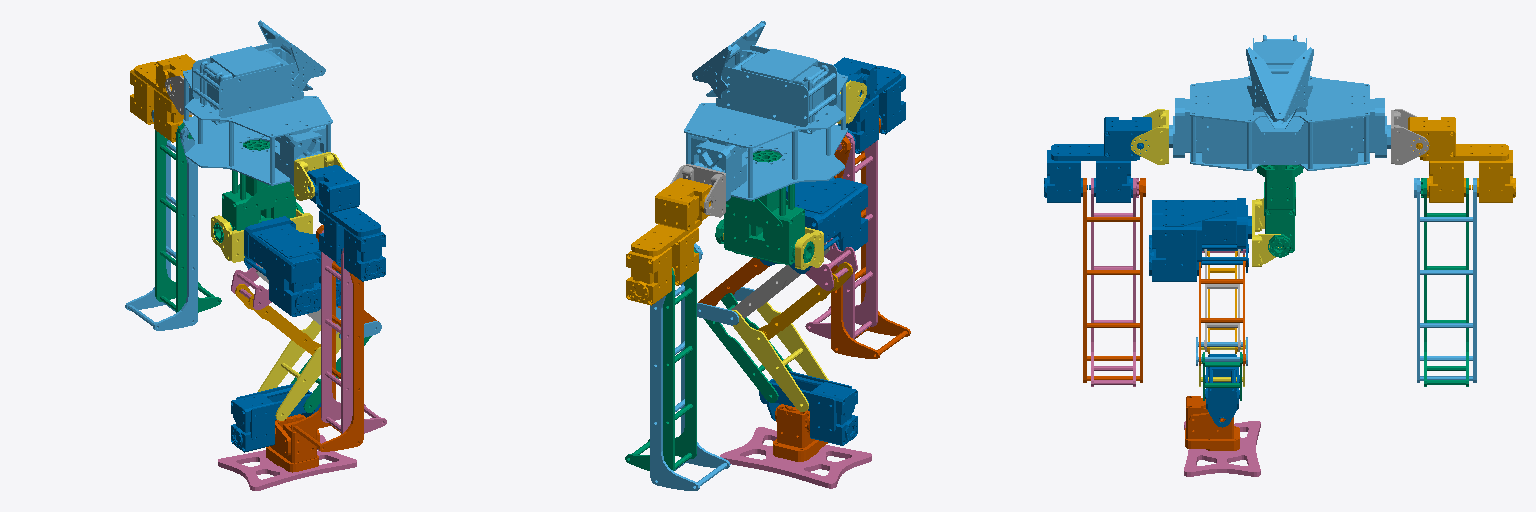
--- Render facts (derived) ---
The picture shows the robot from 3 angles, left to right: view 1: azimuth 30°, elevation 25°; view 2: azimuth 150°, elevation 25°; view 3: azimuth 270°, elevation 25°; orthographic projection.
Robot: kuroko — 23 links, 22 joints (21 revolute, 1 fixed); root link root_link; default pose: every joint at zero.
Visible links, largest first — view 1: chest, thigh_r_01, arm_r, scissor_lr, scissor_rr, scissor_lf, scissor_rf, waist, arm_l, ankle_r_01, toe_r_02, leg_r_02 (+5 smaller); view 2: chest, arm_l, waist, scissor_lr, scissor_lf, thigh_r_01, scissor_rr, arm_r, ankle_r_01, toe_r_02, leg_r_02, scissor_rf (+10 smaller); view 3: chest, thigh_r_01, arm_r, arm_l, waist, scissor_lf, scissor_rf, toe_r_02, scissor_rr, scissor_lr, toe_r_01, ankle_r_01 (+6 smaller).
Link boxes in pixels (bbox=[...]): chest: bbox=[183, 20, 332, 186]; thigh_r_01: bbox=[244, 216, 340, 316]; arm_r: bbox=[307, 165, 385, 281]; scissor_lr: bbox=[155, 123, 221, 312]; scissor_rr: bbox=[320, 230, 386, 433]; scissor_lf: bbox=[125, 110, 197, 330]; scissor_rf: bbox=[290, 225, 363, 451]; waist: bbox=[213, 139, 303, 242]; arm_l: bbox=[130, 54, 195, 142]; ankle_r_01: bbox=[231, 383, 320, 452]; toe_r_02: bbox=[218, 435, 356, 490]; leg_r_02: bbox=[258, 320, 340, 420]; chest: bbox=[684, 21, 847, 201]; arm_l: bbox=[626, 178, 712, 305]; waist: bbox=[715, 150, 814, 265]; scissor_lr: bbox=[625, 249, 697, 470]; scissor_lf: bbox=[650, 243, 730, 490]; thigh_r_01: bbox=[760, 177, 867, 273]; scissor_rr: bbox=[805, 132, 877, 339]; arm_r: bbox=[834, 57, 905, 153]; ankle_r_01: bbox=[759, 371, 857, 445]; toe_r_02: bbox=[720, 427, 871, 488]; leg_r_02: bbox=[732, 302, 828, 411]; scissor_rf: bbox=[831, 118, 910, 358]; chest: bbox=[1169, 35, 1390, 170]; thigh_r_01: bbox=[1149, 198, 1251, 281]; arm_r: bbox=[1044, 117, 1151, 202]; arm_l: bbox=[1408, 117, 1515, 202]; waist: bbox=[1256, 165, 1303, 257]; scissor_lf: bbox=[1414, 178, 1476, 382]; scissor_rf: bbox=[1083, 178, 1145, 382]; toe_r_02: bbox=[1184, 421, 1260, 476]; scissor_rr: bbox=[1091, 178, 1138, 386]; scissor_lr: bbox=[1421, 178, 1468, 386]; toe_r_01: bbox=[1185, 396, 1239, 450]; ankle_r_01: bbox=[1205, 354, 1239, 427].
Size in the robot's own frame: 0.1679 by 0.459 by 0.4431 metres.
Meshes: 22 distinct files referenced, 22 mesh visuals loaded (22 OBJ).

robot.urdf — kuroko:
<?xml version="1.0" ?>
<!-- =================================================================================== -->
<!-- |    This document was autogenerated by xacro from kuroko.xacro                   | -->
<!-- |    EDITING THIS FILE BY HAND IS NOT RECOMMENDED                                 | -->
<!-- =================================================================================== -->
<robot name="kuroko">
  <!-- 
  <xacro:include filename="$(find kuroko_description)/xacro/kuroko/parts/leg_l.xacro"/>
  <xacro:include filename="$(find kuroko_description)/xacro/kuroko/transmission/leg_l.gazebo"/>-->
  <link name="root_link"/>
  <joint name="root_joint" type="fixed">
    <parent link="root_link"/>
    <child link="chest"/>
    <origin rpy="0 0 0" xyz="0 0 0"/>
  </joint>
  <!-- chest -->
  <link name="chest">
    <visual>
      <origin rpy="0 0 0" xyz="0 0 0"/>
      <geometry>
        <mesh filename="package://kuroko_description/meshes/kuroko/obj/chest.obj"/>
      </geometry>
    </visual>
    <collision>
      <origin rpy="0 0 0" xyz="0 0 0.057"/>
      <geometry>
        <box size="0.1 0.204 0.114"/>
      </geometry>
    </collision>
    <inertial>
      <origin rpy="0 0 0" xyz="0 0 0.057"/>
      <mass value="0.991"/>
      <inertia ixx="0.004510040999999999" ixy="0.0" ixz="0.0" iyy="0.0018990863333333335" iyz="0.0" izz="0.0042626213333333334"/>
    </inertial>
  </link>
  <!-- Joint1 -->
  <joint name="waist_joint" type="revolute">
    <parent link="chest"/>
    <child link="waist"/>
    <origin rpy="0 0 0" xyz="0 0 0"/>
    <axis xyz="0 0 -1"/>
    <limit effort="1000.0" lower="-3.1" upper="3.1" velocity="10.0"/>
    <dynamics damping="0.0" friction="0.0"/>
  </joint>
  <!-- waist -->
  <link name="waist">
    <visual>
      <origin rpy="0 0 0" xyz="0 0 0"/>
      <geometry>
        <mesh filename="package://kuroko_description/meshes/kuroko/obj/waist.obj"/>
      </geometry>
    </visual>
    <collision>
      <origin rpy="0 0 0" xyz="0.00125 0 -0.04875"/>
      <geometry>
        <box size="0.0705 0.0325 0.0975"/>
      </geometry>
    </collision>
    <inertial>
      <origin rpy="0 0 0" xyz="0.00125 0 -0.04875"/>
      <mass value="0.337"/>
      <inertia ixx="0.00029663020833333337" ixy="0.0" ixz="0.0" iyy="0.00040654837500000003" iyz="0.0" izz="0.00016924420833333329"/>
    </inertial>
  </link>
  <gazebo reference="chest">
    <kp>1000000.0</kp>
    <kd>100.0</kd>
    <mu1>0.1</mu1>
    <maxVel>10.0</maxVel>
    <minDepth>0.0001</minDepth>
    <maxContacts>6</maxContacts>
    <selfCollide>false</selfCollide>
    <dampingFactor>0</dampingFactor>
  </gazebo>
  <gazebo reference="waist_joint">
    <implicitSpringDamper>1</implicitSpringDamper>
  </gazebo>
  <transmission name="waist_joint_trans">
    <type>transmission_interface/SimpleTransmission</type>
    <joint name="waist_joint">
      <hardwareInterface>hardware_interface/PositionJointInterface</hardwareInterface>
    </joint>
    <actuator name="waist_joint_motor">
      <hardwareInterface>hardware_interface/PositionJointInterface</hardwareInterface>
      <mechanicalReduction>1</mechanicalReduction>
    </actuator>
  </transmission>
  <gazebo reference="waist">
    <kp>1000000.0</kp>
    <kd>100.0</kd>
    <mu1>0.1</mu1>
    <maxVel>10.0</maxVel>
    <minDepth>0.0001</minDepth>
    <maxContacts>6</maxContacts>
    <selfCollide>false</selfCollide>
    <dampingFactor>0</dampingFactor>
  </gazebo>
  <!-- Link conencts from body. Shoulder first. -->
  <joint name="shoulder_r_joint" type="revolute">
    <parent link="chest"/>
    <child link="shoulder_r"/>
    <origin rpy="0 0 0" xyz="0 -0.108 0.01275"/>
    <axis xyz="0 -1 0"/>
    <limit effort="1000.0" lower="-3.1" upper="3.1" velocity="10.0"/>
    <dynamics damping="0.0" friction="0.0"/>
  </joint>
  <link name="shoulder_r">
    <visual>
      <origin rpy="0 0 0" xyz="0 0 0"/>
      <geometry>
        <mesh filename="package://kuroko_description/meshes/kuroko/obj/shoulder_r.obj"/>
      </geometry>
    </visual>
    <collision>
      <origin rpy="0 0 0" xyz="0 -0.0205 0"/>
      <geometry>
        <box size="0.042 0.041 0.04"/>
      </geometry>
    </collision>
    <inertial>
      <origin rpy="0 0 0" xyz="0 -0.0205 0"/>
      <mass value="0.022"/>
      <inertia ixx="1e-05" ixy="0.0" ixz="0.0" iyy="1e-05" iyz="0.0" izz="1e-05"/>
    </inertial>
  </link>
  <joint name="arm_r_joint" type="revolute">
    <parent link="shoulder_r"/>
    <child link="arm_r"/>
    <origin rpy="0 0 0" xyz="0 -0.028 0"/>
    <axis xyz="-1 0 0"/>
    <limit effort="1000.0" lower="-3.1" upper="3.1" velocity="10.0"/>
    <dynamics damping="0.0" friction="0.0"/>
  </joint>
  <link name="arm_r">
    <visual>
      <origin rpy="0 0 0" xyz="0 0 0"/>
      <geometry>
        <mesh filename="package://kuroko_description/meshes/kuroko/obj/arm_r.obj"/>
      </geometry>
    </visual>
    <collision>
      <origin rpy="0 0 0" xyz="0 -0.0385 -0.02575"/>
      <geometry>
        <box size="0.0285 0.1045 0.08"/>
      </geometry>
    </collision>
    <inertial>
      <origin rpy="0 0 0" xyz="0 -0.0385 -0.02575"/>
      <mass value="0.342"/>
      <inertia ixx="0.000493627125" ixy="0.0" ixz="0.0" iyy="0.000205549125" iyz="0.0" izz="0.00033437625000000003"/>
    </inertial>
  </link>
  <joint name="scissor_rf_joint" type="revolute">
    <parent link="arm_r"/>
    <child link="scissor_rf"/>
    <origin rpy="0 0 0" xyz="0 -0.0265 -0.0545"/>
    <axis xyz="0 -1 0"/>
    <limit effort="1000.0" lower="-3.1" upper="3.1" velocity="10.0"/>
    <dynamics damping="0.0" friction="0.0"/>
  </joint>
  <link name="scissor_rf">
    <visual>
      <origin rpy="0 0 0" xyz="0 0 0"/>
      <geometry>
        <mesh filename="package://kuroko_description/meshes/kuroko/obj/scissor_rf.obj"/>
      </geometry>
    </visual>
    <collision>
      <origin rpy="0 0 0" xyz="0.0043 0 -0.104"/>
      <geometry>
        <box size="0.01085 0.058 0.208"/>
      </geometry>
    </collision>
    <collision>
      <origin rpy="0 0 0" xyz="-0.0206 0 -0.201"/>
      <geometry>
        <box size="0.039 0.058 0.014"/>
      </geometry>
    </collision>
    <inertial>
      <origin rpy="0 0 0" xyz="0.0043 0 -0.104"/>
      <mass value="0.032"/>
      <inertia ixx="0.00012434133333333333" ixy="0.0" ixz="0.0" iyy="0.00012053333333333334" iyz="0.0" izz="1.4133333333333334e-05"/>
    </inertial>
  </link>
  <joint name="scissor_rr_joint" type="revolute">
    <parent link="arm_r"/>
    <child link="scissor_rr"/>
    <origin rpy="0 0 0" xyz="0 -0.0265 -0.0545"/>
    <axis xyz="0 1 0"/>
    <limit effort="1000.0" lower="-3.1" upper="3.1" velocity="10.0"/>
    <dynamics damping="0.0" friction="0.0"/>
  </joint>
  <link name="scissor_rr">
    <visual>
      <origin rpy="0 0 0" xyz="0 0 0"/>
      <geometry>
        <mesh filename="package://kuroko_description/meshes/kuroko/obj/scissor_rr.obj"/>
      </geometry>
    </visual>
    <collision>
      <origin rpy="0 0 0" xyz="-0.0043 0 -0.1"/>
      <geometry>
        <box size="0.01085 0.044 0.2"/>
      </geometry>
    </collision>
    <collision>
      <origin rpy="0 0 0" xyz="0.0206 0 -0.193"/>
      <geometry>
        <box size="0.039 0.044 0.014"/>
      </geometry>
    </collision>
    <inertial>
      <origin rpy="0 0 0" xyz="-0.0043 0 -0.1"/>
      <mass value="0.031"/>
      <inertia ixx="0.00010833466666666668" ixy="0.0" ixz="0.0" iyy="0.00010833466666666668" iyz="0.0" izz="1.0002666666666667e-05"/>
    </inertial>
  </link>
  <gazebo reference="shoulder_r_joint">
    <implicitSpringDamper>1</implicitSpringDamper>
  </gazebo>
  <transmission name="shoulder_r_joint_trans">
    <type>transmission_interface/SimpleTransmission</type>
    <joint name="shoulder_r_joint">
      <hardwareInterface>hardware_interface/PositionJointInterface</hardwareInterface>
    </joint>
    <actuator name="shoulder_r_joint_motor">
      <hardwareInterface>hardware_interface/PositionJointInterface</hardwareInterface>
      <mechanicalReduction>1</mechanicalReduction>
    </actuator>
  </transmission>
  <gazebo reference="shoulder_r">
    <kp>1000000.0</kp>
    <kd>100.0</kd>
    <mu1>0.0</mu1>
    <maxVel>10.0</maxVel>
    <minDepth>0.0001</minDepth>
    <maxContacts>6</maxContacts>
    <selfCollide>false</selfCollide>
    <dampingFactor>0</dampingFactor>
  </gazebo>
  <!-- Link conencts from body. Shoulder first. -->
  <joint name="shoulder_l_joint" type="revolute">
    <parent link="chest"/>
    <child link="shoulder_l"/>
    <origin rpy="0 0 0" xyz="0 0.108 0.01275"/>
    <axis xyz="0 1 0"/>
    <limit effort="1000.0" lower="-3.1" upper="3.1" velocity="10.0"/>
    <dynamics damping="0.0" friction="0.0"/>
  </joint>
  <link name="shoulder_l">
    <visual>
      <origin rpy="0 0 0" xyz="0 0 0"/>
      <geometry>
        <mesh filename="package://kuroko_description/meshes/kuroko/obj/shoulder_l.obj"/>
      </geometry>
    </visual>
    <collision>
      <origin rpy="0 0 0" xyz="0 0.0205 0"/>
      <geometry>
        <box size="0.042 0.041 0.04"/>
      </geometry>
    </collision>
    <inertial>
      <origin rpy="0 0 0" xyz="0 0.0205 0"/>
      <mass value="0.022"/>
      <inertia ixx="1e-05" ixy="0.0" ixz="0.0" iyy="1e-05" iyz="0.0" izz="1e-05"/>
    </inertial>
  </link>
  <joint name="arm_l_joint" type="revolute">
    <parent link="shoulder_l"/>
    <child link="arm_l"/>
    <origin rpy="0 0 0" xyz="0 0.028 0"/>
    <axis xyz="-1 0 0"/>
    <limit effort="1000.0" lower="-3.1" upper="3.1" velocity="10.0"/>
    <dynamics damping="0.0" friction="0.0"/>
  </joint>
  <link name="arm_l">
    <visual>
      <origin rpy="0 0 0" xyz="0 0 0"/>
      <geometry>
        <mesh filename="package://kuroko_description/meshes/kuroko/obj/arm_l.obj"/>
      </geometry>
    </visual>
    <collision>
      <origin rpy="0 0 0" xyz="0 0.0385 -0.02575"/>
      <geometry>
        <box size="0.0285 0.1045 0.08"/>
      </geometry>
    </collision>
    <inertial>
      <origin rpy="0 0 0" xyz="0 0.0385 -0.02575"/>
      <mass value="0.342"/>
      <inertia ixx="0.000493627125" ixy="0.0" ixz="0.0" iyy="0.000205549125" iyz="0.0" izz="0.00033437625000000003"/>
    </inertial>
  </link>
  <joint name="scissor_lf_joint" type="revolute">
    <parent link="arm_l"/>
    <child link="scissor_lf"/>
    <origin rpy="0 0 0" xyz="0 0.0265 -0.0545"/>
    <axis xyz="0 1 0"/>
    <limit effort="1000.0" lower="-3.1" upper="3.1" velocity="10.0"/>
    <dynamics damping="0.0" friction="0.0"/>
  </joint>
  <link name="scissor_lf">
    <visual>
      <origin rpy="0 0 0" xyz="0 0 0"/>
      <geometry>
        <mesh filename="package://kuroko_description/meshes/kuroko/obj/scissor_lf.obj"/>
      </geometry>
    </visual>
    <collision>
      <origin rpy="0 0 0" xyz="0.0043 0 -0.104"/>
      <geometry>
        <box size="0.01085 0.058 0.208"/>
      </geometry>
    </collision>
    <collision>
      <origin rpy="0 0 0" xyz="-0.0206 0 -0.201"/>
      <geometry>
        <box size="0.039 0.058 0.014"/>
      </geometry>
    </collision>
    <inertial>
      <origin rpy="0 0 0" xyz="0.0043 0 -0.104"/>
      <mass value="0.032"/>
      <inertia ixx="0.00012434133333333333" ixy="0.0" ixz="0.0" iyy="0.00012053333333333334" iyz="0.0" izz="1.4133333333333334e-05"/>
    </inertial>
  </link>
  <joint name="scissor_lr_joint" type="revolute">
    <parent link="arm_l"/>
    <child link="scissor_lr"/>
    <origin rpy="0 0 0" xyz="0 0.0265 -0.0545"/>
    <axis xyz="0 -1 0"/>
    <limit effort="1000.0" lower="-3.1" upper="3.1" velocity="10.0"/>
    <dynamics damping="0.0" friction="0.0"/>
  </joint>
  <link name="scissor_lr">
    <visual>
      <origin rpy="0 0 0" xyz="0 0 0"/>
      <geometry>
        <mesh filename="package://kuroko_description/meshes/kuroko/obj/scissor_lr.obj"/>
      </geometry>
    </visual>
    <collision>
      <origin rpy="0 0 0" xyz="-0.0043 0 -0.1"/>
      <geometry>
        <box size="0.01085 0.044 0.2"/>
      </geometry>
    </collision>
    <collision>
      <origin rpy="0 0 0" xyz="0.0206 0 -0.193"/>
      <geometry>
        <box size="0.039 0.044 0.014"/>
      </geometry>
    </collision>
    <inertial>
      <origin rpy="0 0 0" xyz="-0.0043 0 -0.1"/>
      <mass value="0.031"/>
      <inertia ixx="0.00010833466666666668" ixy="0.0" ixz="0.0" iyy="0.00010833466666666668" iyz="0.0" izz="1.0002666666666667e-05"/>
    </inertial>
  </link>
  <gazebo reference="shoulder_l_joint">
    <implicitSpringDamper>1</implicitSpringDamper>
  </gazebo>
  <transmission name="shoulder_l_joint_trans">
    <type>transmission_interface/SimpleTransmission</type>
    <joint name="shoulder_l_joint">
      <hardwareInterface>hardware_interface/PositionJointInterface</hardwareInterface>
    </joint>
    <actuator name="shoulder_l_joint_motor">
      <hardwareInterface>hardware_interface/PositionJointInterface</hardwareInterface>
      <mechanicalReduction>1</mechanicalReduction>
    </actuator>
  </transmission>
  <gazebo reference="shoulder_l">
    <kp>1000000.0</kp>
    <kd>100.0</kd>
    <mu1>0.0</mu1>
    <maxVel>10.0</maxVel>
    <minDepth>0.0001</minDepth>
    <maxContacts>6</maxContacts>
    <selfCollide>false</selfCollide>
    <dampingFactor>0</dampingFactor>
  </gazebo>
  <!-- Link conencts from body. Femoral first. -->
  <joint name="crotch_r_joint" type="revolute">
    <parent link="waist"/>
    <child link="crotch_r"/>
    <origin rpy="0 0 0" xyz="0.00125 0 -0.08425"/>
    <axis xyz="1 0 0"/>
    <limit effort="1000.0" lower="-3.1" upper="3.1" velocity="10.0"/>
    <dynamics damping="0.0" friction="0.0"/>
  </joint>
  <link name="crotch_r">
    <visual>
      <origin rpy="0 0 0" xyz="0 0 0"/>
      <geometry>
        <mesh filename="package://kuroko_description/meshes/kuroko/obj/crotch_r.obj"/>
      </geometry>
    </visual>
    <collision>
      <origin rpy="0 0 0" xyz="0 -0.0065 -0.004125"/>
      <geometry>
        <box size="0.092 0.041 0.03625"/>
      </geometry>
    </collision>
    <inertial>
      <origin rpy="0 0 0" xyz="0 -0.0065 -0.004125"/>
      <mass value="0.026"/>
      <inertia ixx="1e-05" ixy="0.0" ixz="0.0" iyy="2.118580208333333e-05" iyz="0.0" izz="2.198083333333333e-05"/>
    </inertial>
  </link>
  <joint name="thigh_r_01_joint" type="revolute">
    <parent link="crotch_r"/>
    <child link="thigh_r_01"/>
    <origin rpy="0 0 0" xyz="0 -0.027 0"/>
    <axis xyz="0 -1 0"/>
    <limit effort="1000.0" lower="-3.1" upper="3.1" velocity="10.0"/>
    <dynamics damping="0.0" friction="0.0"/>
  </joint>
  <link name="thigh_r_01">
    <visual>
      <origin rpy="0 0 0" xyz="0 0 0"/>
      <geometry>
        <mesh filename="package://kuroko_description/meshes/kuroko/obj/thigh_r_01.obj"/>
      </geometry>
    </visual>
    <collision>
      <origin rpy="0 0 0" xyz="-0.00175 -0.049 -0.015"/>
      <geometry>
        <box size="0.067 0.098 0.0585"/>
      </geometry>
    </collision>
    <inertial>
      <origin rpy="0 0 0" xyz="-0.00175 -0.049 -0.015"/>
      <mass value="0.478"/>
      <inertia ixx="0.0005188789583333333" ixy="0.0" ixz="0.0" iyy="0.0003151314583333334" iyz="0.0" izz="0.0005613711666666666"/>
    </inertial>
  </link>
  <joint name="thigh_r_02_joint" type="revolute">
    <parent link="thigh_r_01"/>
    <child link="thigh_r_02"/>
    <origin rpy="0 -0.785398163 0" xyz="0.015 -0.02925 -0.0305"/>
    <axis xyz="0 1 0"/>
    <limit effort="1000.0" lower="-3.1" upper="3.1" velocity="10.0"/>
    <dynamics damping="0.0" friction="0.0"/>
  </joint>
  <link name="thigh_r_02">
    <visual>
      <origin rpy="0 0 0" xyz="0 0 0"/>
      <geometry>
        <mesh filename="package://kuroko_description/meshes/kuroko/obj/thigh_r_02.obj"/>
      </geometry>
    </visual>
    <collision>
      <origin rpy="0 0 0" xyz="0 0 -0.05"/>
      <geometry>
        <box size="0.014 0.0445 0.114"/>
      </geometry>
    </collision>
    <inertial>
      <origin rpy="0 0 0" xyz="0 0 -0.05"/>
      <mass value="0.012"/>
      <inertia ixx="1.4976249999999999e-05" ixy="0.0" ixz="0.0" iyy="1.3192e-05" iyz="0.0" izz="1e-05"/>
    </inertial>
  </link>
  <joint name="thigh_r_03_joint" type="revolute">
    <parent link="thigh_r_01"/>
    <child link="thigh_r_03"/>
    <origin rpy="0 1.047197551 0" xyz="-0.0185 -0.02925 -0.0305"/>
    <axis xyz="0 1 0"/>
    <limit effort="1000.0" lower="-3.1" upper="3.1" velocity="10.0"/>
    <dynamics damping="0.0" friction="0.0"/>
  </joint>
  <link name="thigh_r_03">
    <visual>
      <origin rpy="0 0 0" xyz="0 0 0"/>
      <geometry>
        <mesh filename="package://kuroko_description/meshes/kuroko/obj/thigh_r_03.obj"/>
      </geometry>
    </visual>
    <collision>
      <origin rpy="0 0 0" xyz="-0.004745 0 -0.015"/>
      <geometry>
        <box size="0.02349 0.0445 0.044"/>
      </geometry>
    </collision>
    <inertial>
      <origin rpy="0 0 0" xyz="-0.004745 0 -0.015"/>
      <mass value="0.008"/>
      <inertia ixx="1e-05" ixy="0.0" ixz="0.0" iyy="1e-05" iyz="0.0" izz="1e-05"/>
    </inertial>
  </link>
  <joint name="thigh_r_04_joint" type="revolute">
    <parent link="thigh_r_01"/>
    <child link="thigh_r_04"/>
    <origin rpy="0 -0.785398163 0" xyz="-0.0185 -0.02925 -0.0305"/>
    <axis xyz="0 1 0"/>
    <limit effort="1000.0" lower="-3.1" upper="3.1" velocity="10.0"/>
    <dynamics damping="0.0" friction="0.0"/>
    <mimic joint="thigh_r_02_joint" multiplier="1" offset="0"/>
  </joint>
  <link name="thigh_r_04">
    <visual>
      <origin rpy="0 0 0" xyz="0 0 0"/>
      <geometry>
        <mesh filename="package://kuroko_description/meshes/kuroko/obj/thigh_r_04.obj"/>
      </geometry>
    </visual>
    <collision>
      <origin rpy="0 0 0" xyz="0 0 -0.05"/>
      <geometry>
        <box size="0.014 0.0345 0.114"/>
      </geometry>
    </collision>
    <inertial>
      <origin rpy="0 0 0" xyz="0 0 -0.05"/>
      <mass value="0.012"/>
      <inertia ixx="1.4186250000000002e-05" ixy="0.0" ixz="0.0" iyy="1.3192e-05" iyz="0.0" izz="1e-05"/>
    </inertial>
  </link>
  <joint name="thigh_r_05_mimic1" type="revolute">
    <parent link="thigh_r_03"/>
    <child link="thigh_r_05"/>
    <origin rpy="0 -1.832597551 0" xyz="0 0 -0.03"/>
    <axis xyz="0 1 0"/>
    <limit effort="1000.0" lower="-3.1" upper="3.1" velocity="10.0"/>
    <dynamics damping="0.0" friction="0.0"/>
    <mimic joint="thigh_r_03_joint" multiplier="-1" offset="0"/>
    <mimic joint="thigh_r_02_joint" multiplier="1" offset="0"/>
  </joint>
  <!-- <link name="thigh_r_05_mimic" />
		<joint name="thigh_r_05_mimic2" type="revolute">
			<parent link="thigh_r_05_mimic" />
			<child link="thigh_r_05" />
			<origin xyz="0 0 0" rpy="0 0 0" />
			<axis xyz="0 1 0" />
			<limit effort="1000.0" lower="-3.1" upper="3.1" velocity="10.0" />
			<dynamics damping="0.0" friction="0.0" />
			<mimic joint="thigh_r_02_joint" multiplier="1" offset="0" />
		</joint> -->
  <link name="thigh_r_05">
    <visual>
      <origin rpy="0 0 0" xyz="0 0 0"/>
      <geometry>
        <mesh filename="package://kuroko_description/meshes/kuroko/obj/thigh_r_05.obj"/>
      </geometry>
    </visual>
    <collision>
      <origin rpy="0 0 0" xyz="0 0 -0.05"/>
      <geometry>
        <box size="0.014 0.0285 0.114"/>
      </geometry>
    </collision>
    <inertial>
      <origin rpy="0 0 0" xyz="0 0 -0.05"/>
      <mass value="0.011"/>
      <inertia ixx="1.26575625e-05" ixy="0.0" ixz="0.0" iyy="1.2092666666666667e-05" iyz="0.0" izz="1e-05"/>
    </inertial>
  </link>
  <joint name="knee_r_joint" type="revolute">
    <parent link="thigh_r_02"/>
    <child link="knee_r"/>
    <origin rpy="0 0.785398163 0" xyz="0 0 -0.1"/>
    <axis xyz="0 1 0"/>
    <limit effort="1000.0" lower="-3.1" upper="3.1" velocity="10.0"/>
    <dynamics damping="0.0" friction="0.0"/>
    <mimic joint="thigh_r_02_joint" multiplier="-1" offset="0"/>
  </joint>
  <link name="knee_r">
    <visual>
      <origin rpy="0 0 0" xyz="0 0 0"/>
      <geometry>
        <mesh filename="package://kuroko_description/meshes/kuroko/obj/knee_r.obj"/>
      </geometry>
    </visual>
    <collision>
      <origin rpy="0 0 0" xyz="-0.01675 0 0"/>
      <geometry>
        <box size="0.0475 0.0505 0.014"/>
      </geometry>
    </collision>
    <inertial>
      <origin rpy="0 0 0" xyz="-0.01675 0 0"/>
      <mass value="0.007"/>
      <inertia ixx="1e-05" ixy="0.0" ixz="0.0" iyy="1e-05" iyz="0.0" izz="1e-05"/>
    </inertial>
  </link>
  <joint name="leg_r_01_joint" type="revolute">
    <parent link="knee_r"/>
    <child link="leg_r_01"/>
    <origin rpy="0 0.785398163 0" xyz="0 0 0"/>
    <axis xyz="0 1 0"/>
    <limit effort="1000.0" lower="-3.1" upper="3.1" velocity="10.0"/>
    <dynamics damping="0.0" friction="0.0"/>
    <mimic joint="thigh_r_03_joint" multiplier="1" offset="0"/>
  </joint>
  <link name="leg_r_01">
    <visual>
      <origin rpy="0 0 0" xyz="0 0 0"/>
      <geometry>
        <mesh filename="package://kuroko_description/meshes/kuroko/obj/leg_r_01.obj"/>
      </geometry>
    </visual>
    <collision>
      <origin rpy="0 0 0" xyz="0 0 -0.05"/>
      <geometry>
        <box size="0.014 0.0385 0.114"/>
      </geometry>
    </collision>
    <inertial>
      <origin rpy="0 0 0" xyz="0 0 -0.05"/>
      <mass value="0.013"/>
      <inertia ixx="1.5684770833333335e-05" ixy="0.0" ixz="0.0" iyy="1.4291333333333335e-05" iyz="0.0" izz="1e-05"/>
    </inertial>
  </link>
  <joint name="leg_r_02_joint" type="revolute">
    <parent link="knee_r"/>
    <child link="leg_r_02"/>
    <origin rpy="0 0.785398163 0" xyz="-0.0335 0 0"/>
    <axis xyz="0 1 0"/>
    <limit effort="1000.0" lower="-3.1" upper="3.1" velocity="10.0"/>
    <dynamics damping="0.0" friction="0.0"/>
    <mimic joint="thigh_r_03_joint" multiplier="1" offset="0"/>
  </joint>
  <link name="leg_r_02">
    <visual>
      <origin rpy="0 0 0" xyz="0 0 0"/>
      <geometry>
        <mesh filename="package://kuroko_description/meshes/kuroko/obj/leg_r_02.obj"/>
      </geometry>
    </visual>
    <collision>
      <origin rpy="0 0 0" xyz="0 0 -0.05"/>
      <geometry>
        <box size="0.014 0.0445 0.114"/>
      </geometry>
    </collision>
    <inertial>
      <origin rpy="0 0 0" xyz="0 0 -0.05"/>
      <mass value="0.016"/>
      <inertia ixx="1.9968333333333333e-05" ixy="0.0" ixz="0.0" iyy="1.7589333333333335e-05" iyz="0.0" izz="1e-05"/>
    </inertial>
  </link>
  <joint name="ankle_r_01_joint" type="revolute">
    <parent link="leg_r_01"/>
    <child link="ankle_r_01"/>
    <origin rpy="0 -0.785398163 0" xyz="0 0 -0.1"/>
    <axis xyz="0 1 0"/>
    <limit effort="1000.0" lower="-3.1" upper="3.1" velocity="10.0"/>
    <dynamics damping="0.0" friction="0.0"/>
    <mimic joint="thigh_r_03_joint" multiplier="-1" offset="0"/>
  </joint>
  <link name="ankle_r_01">
    <visual>
      <origin rpy="0 0 0" xyz="0 0 0"/>
      <geometry>
        <mesh filename="package://kuroko_description/meshes/kuroko/obj/ankle_r_01.obj"/>
      </geometry>
    </visual>
    <collision>
      <origin rpy="0 0 0" xyz="-0.0285 0 -0.013"/>
      <geometry>
        <box size="0.0855 0.0325 0.0465"/>
      </geometry>
    </collision>
    <inertial>
      <origin rpy="0 0 0" xyz="-0.0285 0 -0.013"/>
      <mass value="0.104"/>
      <inertia ixx="2.7893666666666667e-05" ixy="0.0" ixz="0.0" iyy="8.209500000000002e-05" iyz="0.0" izz="7.250966666666666e-05"/>
    </inertial>
  </link>
  <joint name="toe_r_01_joint" type="revolute">
    <parent link="ankle_r_01"/>
    <child link="toe_r_01"/>
    <origin rpy="0 0 0" xyz="-0.015 0 -0.025"/>
    <axis xyz="1 0 0"/>
    <limit effort="1000.0" lower="-3.1" upper="3.1" velocity="10.0"/>
    <dynamics damping="0.0" friction="0.0"/>
  </joint>
  <link name="toe_r_01">
    <visual>
      <origin rpy="0 0 0" xyz="0 0 0"/>
      <geometry>
        <mesh filename="package://kuroko_description/meshes/kuroko/obj/toe_r_01.obj"/>
      </geometry>
    </visual>
    <collision>
      <origin rpy="0 0 0" xyz="0 -0.009375 -0.01175"/>
      <geometry>
        <box size="0.0365 0.05375 0.043"/>
      </geometry>
    </collision>
    <inertial>
      <origin rpy="0 0 0" xyz="0 -0.009375 -0.01175"/>
      <mass value="0.136"/>
      <inertia ixx="5.3698041666666665e-05" ixy="0.0" ixz="0.0" iyy="3.6054166666666664e-05" iyz="0.0" izz="4.7841541666666664e-05"/>
    </inertial>
  </link>
  <joint name="toe_r_02_joint" type="revolute">
    <parent link="toe_r_01"/>
    <child link="toe_r_02"/>
    <origin rpy="0 0 0" xyz="0 0 -0.03825"/>
    <axis xyz="0 0 -1"/>
    <limit effort="1000.0" lower="-3.1" upper="3.1" velocity="10.0"/>
    <dynamics damping="0.0" friction="0.0"/>
  </joint>
  <link name="toe_r_02">
    <visual>
      <origin rpy="0 0 0" xyz="0 0 0"/>
      <geometry>
        <mesh filename="package://kuroko_description/meshes/kuroko/obj/toe_r_02.obj"/>
      </geometry>
    </visual>
    <collision>
      <origin rpy="0 0 0" xyz="0 0 -0.0025"/>
      <geometry>
        <box size="0.12 0.075 0.005"/>
      </geometry>
    </collision>
    <inertial>
      <origin rpy="0 0 0" xyz="0 0 -0.0025"/>
      <mass value="0.043"/>
      <inertia ixx="2.0245833333333332e-05" ixy="0.0" ixz="0.0" iyy="5.168958333333333e-05" iyz="0.0" izz="7.175625e-05"/>
    </inertial>
  </link>
  <gazebo>
    <joint name="thigh_r_05_joint" type="revolute">
      <parent>thigh_r_03</parent>
      <child>thigh_r_05</child>
      <pose>-0.03 0 0 0 0 0</pose>
      <axis>
        <xyz>0 1 0</xyz>
        <limit>
          <lower>-3.1</lower>
          <upper>3.1</upper>
        </limit>
        <dynamics>
          <spring_reference>0</spring_reference>
          <spring_stiffness>0</spring_stiffness>
        </dynamics>
        <use_parent_model_frame>1</use_parent_model_frame>
      </axis>
      <physics>
        <ode>
          <implicit_spring_damper>1</implicit_spring_damper>
          <cfm_damping>0</cfm_damping>
          <limit>
            <cfm>1e-7</cfm>
            <erp>0.8</erp>
          </limit>
        </ode>
      </physics>
    </joint>
  </gazebo>
  <gazebo reference="leg_r_joint01">
    <implicitSpringDamper>1</implicitSpringDamper>
  </gazebo>
  <transmission name="leg_r_joint01_trans">
    <type>transmission_interface/SimpleTransmission</type>
    <joint name="leg_r_joint01">
      <hardwareInterface>hardware_interface/PositionJointInterface</hardwareInterface>
    </joint>
    <actuator name="leg_r_joint01_motor">
      <hardwareInterface>hardware_interface/PositionJointInterface</hardwareInterface>
      <mechanicalReduction>1</mechanicalReduction>
    </actuator>
  </transmission>
  <gazebo reference="leg_r_joint02">
    <implicitSpringDamper>1</implicitSpringDamper>
  </gazebo>
  <transmission name="leg_r_joint02_trans">
    <type>transmission_interface/SimpleTransmission</type>
    <joint name="leg_r_joint02">
      <hardwareInterface>hardware_interface/PositionJointInterface</hardwareInterface>
    </joint>
    <actuator name="leg_r_joint02_motor">
      <hardwareInterface>hardware_interface/PositionJointInterface</hardwareInterface>
      <mechanicalReduction>1</mechanicalReduction>
    </actuator>
  </transmission>
  <gazebo reference="leg_r_joint03">
    <implicitSpringDamper>1</implicitSpringDamper>
  </gazebo>
  <transmission name="leg_r_joint03_trans">
    <type>transmission_interface/SimpleTransmission</type>
    <joint name="leg_r_joint03">
      <hardwareInterface>hardware_interface/PositionJointInterface</hardwareInterface>
    </joint>
    <actuator name="leg_r_joint03_motor">
      <hardwareInterface>hardware_interface/PositionJointInterface</hardwareInterface>
      <mechanicalReduction>1</mechanicalReduction>
    </actuator>
  </transmission>
  <gazebo reference="leg_r_joint04">
    <implicitSpringDamper>1</implicitSpringDamper>
  </gazebo>
  <transmission name="leg_r_joint04_trans">
    <type>transmission_interface/SimpleTransmission</type>
    <joint name="leg_r_joint04">
      <hardwareInterface>hardware_interface/PositionJointInterface</hardwareInterface>
    </joint>
    <actuator name="leg_r_joint04_motor">
      <hardwareInterface>hardware_interface/PositionJointInterface</hardwareInterface>
      <mechanicalReduction>1</mechanicalReduction>
    </actuator>
  </transmission>
  <gazebo reference="leg_r_joint05">
    <implicitSpringDamper>1</implicitSpringDamper>
  </gazebo>
  <gazebo reference="leg_r_joint06">
    <implicitSpringDamper>1</implicitSpringDamper>
  </gazebo>
  <gazebo reference="leg_r_joint07">
    <implicitSpringDamper>1</implicitSpringDamper>
  </gazebo>
  <gazebo reference="leg_r_joint08">
    <implicitSpringDamper>1</implicitSpringDamper>
  </gazebo>
  <gazebo reference="leg_r_joint09">
    <implicitSpringDamper>1</implicitSpringDamper>
  </gazebo>
  <gazebo reference="leg_r_joint10">
    <implicitSpringDamper>1</implicitSpringDamper>
  </gazebo>
  <gazebo reference="leg_r_joint11">
    <implicitSpringDamper>1</implicitSpringDamper>
  </gazebo>
  <transmission name="leg_r_joint11_trans">
    <type>transmission_interface/SimpleTransmission</type>
    <joint name="leg_r_joint11">
      <hardwareInterface>hardware_interface/PositionJointInterface</hardwareInterface>
    </joint>
    <actuator name="leg_r_joint11_motor">
      <hardwareInterface>hardware_interface/PositionJointInterface</hardwareInterface>
      <mechanicalReduction>1</mechanicalReduction>
    </actuator>
  </transmission>
  <gazebo reference="leg_r_joint12">
    <implicitSpringDamper>1</implicitSpringDamper>
  </gazebo>
  <transmission name="leg_r_joint12_trans">
    <type>transmission_interface/SimpleTransmission</type>
    <joint name="leg_r_joint12">
      <hardwareInterface>hardware_interface/PositionJointInterface</hardwareInterface>
    </joint>
    <actuator name="leg_r_joint12_motor">
      <hardwareInterface>hardware_interface/PositionJointInterface</hardwareInterface>
      <mechanicalReduction>1</mechanicalReduction>
    </actuator>
  </transmission>
  <gazebo reference="leg_r_ft_sensor_joint">
    <implicitSpringDamper>1</implicitSpringDamper>
  </gazebo>
  <gazebo reference="leg_r_link01">
    <kp>1000000.0</kp>
    <kd>100.0</kd>
    <mu1>0.0</mu1>
    <maxVel>10.0</maxVel>
    <minDepth>0.0001</minDepth>
    <maxContacts>6</maxContacts>
    <selfCollide>false</selfCollide>
    <dampingFactor>0</dampingFactor>
  </gazebo>
  <gazebo reference="leg_r_link02">
    <kp>1000000.0</kp>
    <kd>100.0</kd>
    <mu1>0.01</mu1>
    <maxVel>10.0</maxVel>
    <minDepth>0.0001</minDepth>
    <maxContacts>6</maxContacts>
    <selfCollide>false</selfCollide>
    <dampingFactor>0</dampingFactor>
  </gazebo>
  <gazebo reference="leg_r_link03">
    <kp>1000000.0</kp>
    <kd>100.0</kd>
    <mu1>0.0</mu1>
    <maxVel>10.0</maxVel>
    <minDepth>0.0001</minDepth>
    <maxContacts>6</maxContacts>
    <selfCollide>false</selfCollide>
    <dampingFactor>0</dampingFactor>
  </gazebo>
  <gazebo reference="leg_r_link04">
    <kp>1000000.0</kp>
    <kd>100.0</kd>
    <mu1>0.0</mu1>
    <maxVel>10.0</maxVel>
    <minDepth>0.0001</minDepth>
    <maxContacts>6</maxContacts>
    <selfCollide>false</selfCollide>
    <dampingFactor>0</dampingFactor>
  </gazebo>
  <gazebo reference="leg_r_link05">
    <kp>1000000.0</kp>
    <kd>100.0</kd>
    <mu1>0.0</mu1>
    <maxVel>10.0</maxVel>
    <minDepth>0.0001</minDepth>
    <maxContacts>6</maxContacts>
    <selfCollide>false</selfCollide>
    <dampingFactor>0</dampingFactor>
  </gazebo>
  <gazebo reference="leg_r_link06">
    <kp>1000000.0</kp>
    <kd>100.0</kd>
    <mu1>0.0</mu1>
    <maxVel>10.0</maxVel>
    <minDepth>0.0001</minDepth>
    <maxContacts>6</maxContacts>
    <selfCollide>false</selfCollide>
    <dampingFactor>0</dampingFactor>
  </gazebo>
  <gazebo reference="leg_r_link07">
    <kp>1000000.0</kp>
    <kd>100.0</kd>
    <mu1>0.01</mu1>
    <maxVel>10.0</maxVel>
    <minDepth>0.0001</minDepth>
    <maxContacts>6</maxContacts>
    <selfCollide>false</selfCollide>
    <dampingFactor>0</dampingFactor>
  </gazebo>
  <gazebo reference="leg_r_link08">
    <kp>1000000.0</kp>
    <kd>100.0</kd>
    <mu1>0.0</mu1>
    <maxVel>10.0</maxVel>
    <minDepth>0.0001</minDepth>
    <maxContacts>6</maxContacts>
    <selfCollide>false</selfCollide>
    <dampingFactor>0</dampingFactor>
  </gazebo>
  <gazebo reference="leg_r_link09">
    <kp>1000000.0</kp>
    <kd>100.0</kd>
    <mu1>0.0</mu1>
    <maxVel>10.0</maxVel>
    <minDepth>0.0001</minDepth>
    <maxContacts>6</maxContacts>
    <selfCollide>false</selfCollide>
    <dampingFactor>0</dampingFactor>
  </gazebo>
  <gazebo reference="leg_r_link10">
    <kp>1000000.0</kp>
    <kd>100.0</kd>
    <mu1>0.01</mu1>
    <maxVel>10.0</maxVel>
    <minDepth>0.0001</minDepth>
    <maxContacts>6</maxContacts>
    <selfCollide>false</selfCollide>
    <dampingFactor>0</dampingFactor>
  </gazebo>
  <gazebo reference="leg_r_link11">
    <kp>1000000.0</kp>
    <kd>100.0</kd>
    <mu1>0.0</mu1>
    <maxVel>10.0</maxVel>
    <minDepth>0.0001</minDepth>
    <maxContacts>6</maxContacts>
    <selfCollide>false</selfCollide>
    <dampingFactor>0</dampingFactor>
  </gazebo>
  <gazebo reference="leg_r_link12_1">
    <kp>1000000.0</kp>
    <kd>100.0</kd>
    <mu1>0.0</mu1>
    <maxVel>10.0</maxVel>
    <minDepth>0.0001</minDepth>
    <maxContacts>6</maxContacts>
    <selfCollide>false</selfCollide>
    <dampingFactor>0</dampingFactor>
  </gazebo>
  <gazebo reference="leg_r_link12_2">
    <kp>1000000.0</kp>
    <kd>100.0</kd>
    <mu1>0.5</mu1>
    <maxVel>10.0</maxVel>
    <minDepth>0.0001</minDepth>
    <maxContacts>6</maxContacts>
    <selfCollide>false</selfCollide>
    <dampingFactor>0</dampingFactor>
  </gazebo>
  <!-- 
    <xacro:leg_l_xacro/>
    <xacro:leg_l_gazebo gazebo_hw_interface="${gazebo_hw_interface}"/>-->
  <gazebo>
    <plugin filename="libgazebo_dc_motor.so" name="gazebo_ros_control">
      <robotNamespace>kuroko</robotNamespace>
      <robotSimType>gazebo_dc_motor/DefaultRobotHWSim</robotSimType>
      <legacyModeNS>false</legacyModeNS>
    </plugin>
  </gazebo>
  <!-- <xacro:imu_xacro model_mode="$(arg model_mode)"/> -->
  <!-- <xacro:urg_xacro firame_id="arm_r_urg_link" topic_name="/sensor/urg/right/scan_raw"
  sensor_name="urg_right"/> -->
  <!-- <xacro:urg_xacro firame_id="arm_l_urg_link" topic_name="/sensor/urg/left/scan_raw"
  sensor_name="urg_left"/> -->
</robot>
